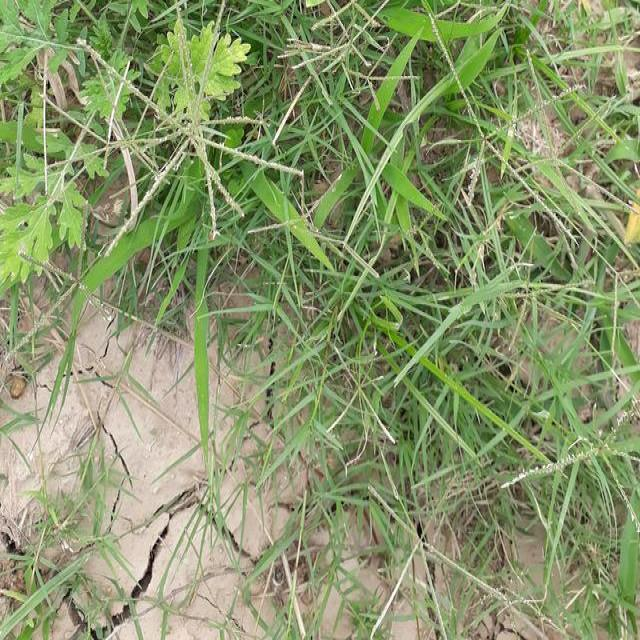weed: (239, 12, 640, 640)
